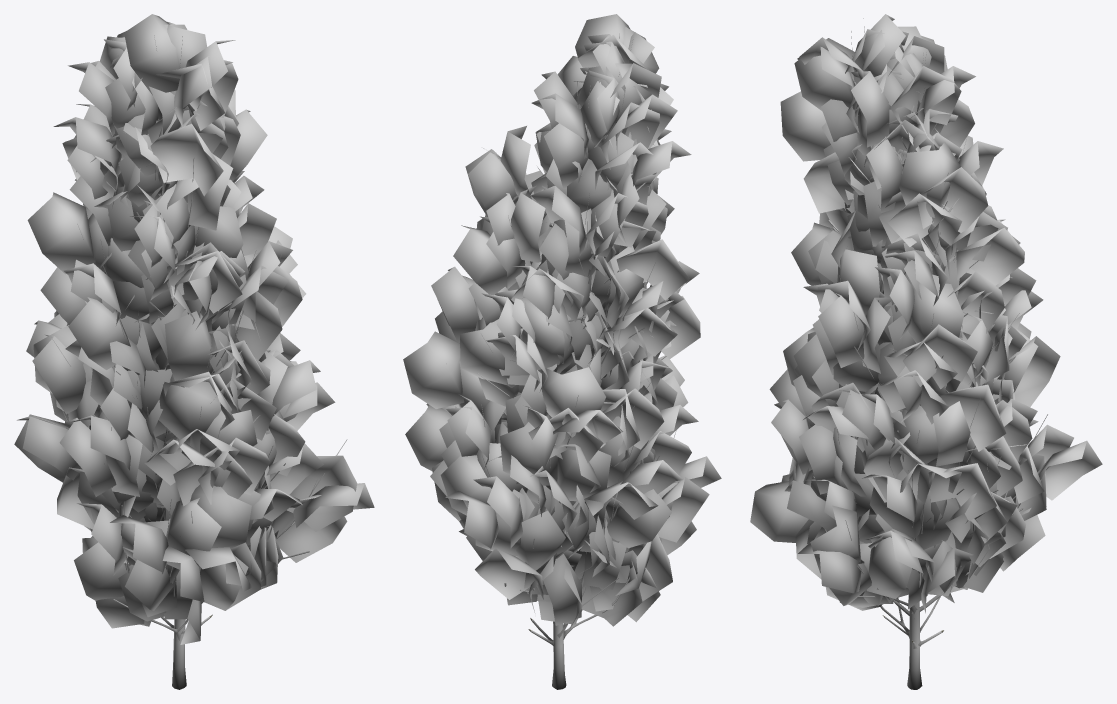
The model's file is BeechEuropean_B.fbx.
3 views of the same model, side by side, from view 1: azimuth 30°, elevation 25°; view 2: azimuth 150°, elevation 25°; view 3: azimuth 270°, elevation 25° (orthographic). The views are drawn at different scales.
Visible parts, largest first — view 1: BeechEuropean_B_LOD0; view 2: BeechEuropean_B_LOD0; view 3: BeechEuropean_B_LOD0.
Boxes of the visible parts, box(x1,y1,x2,y2) form: BeechEuropean_B_LOD0: box(14, 14, 374, 689); BeechEuropean_B_LOD0: box(403, 14, 721, 689); BeechEuropean_B_LOD0: box(750, 14, 1102, 689).
Bounding box in the file's own units: 1279 × 2914 × 1425.
